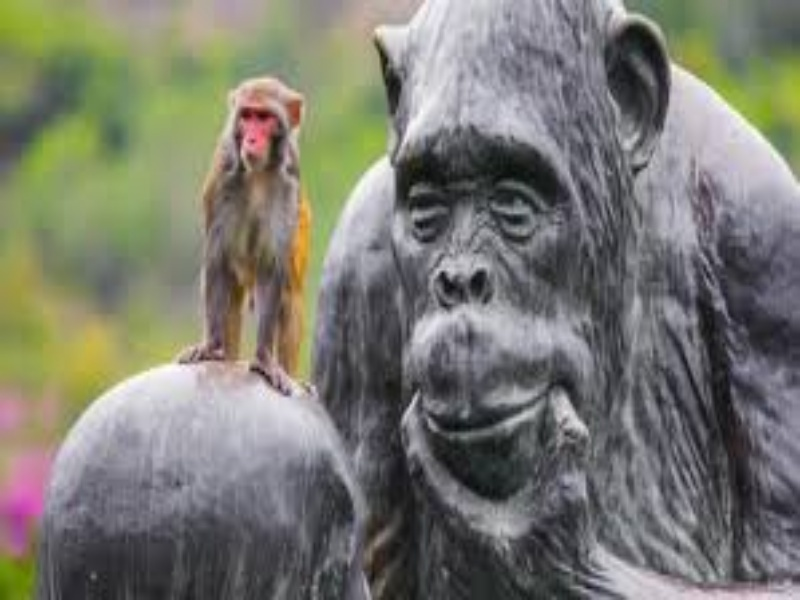monkey: (337, 1, 800, 597), (177, 59, 311, 401)
